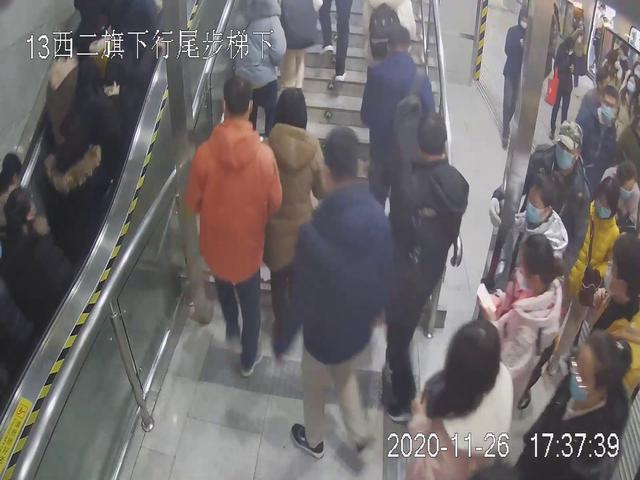person: (182, 76, 284, 372), (291, 121, 381, 455), (384, 105, 465, 424), (254, 83, 326, 362), (360, 25, 434, 235)
